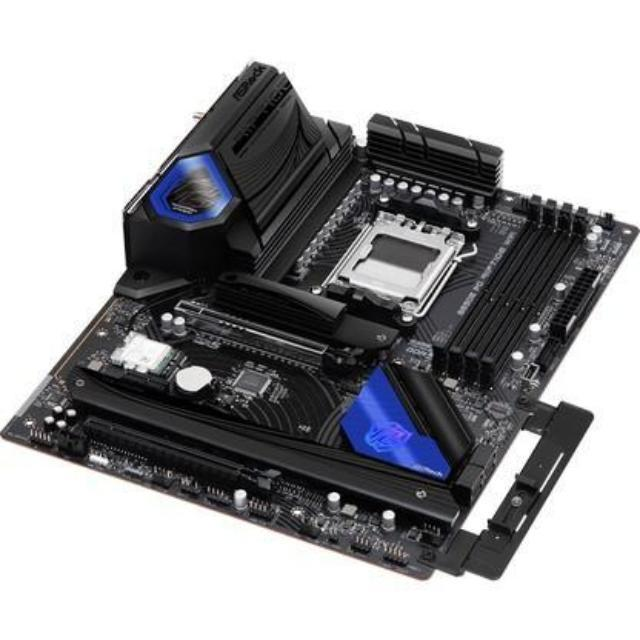Mainboard: (0, 55, 640, 582)
